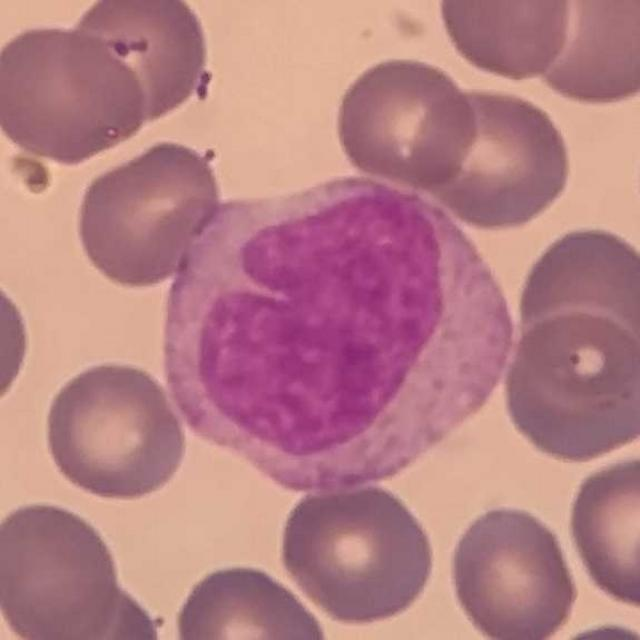Monocyte: (173, 165, 494, 485)
RBC: (408, 82, 578, 232), (274, 478, 441, 628), (70, 136, 228, 292), (39, 355, 190, 504), (498, 308, 640, 465), (0, 18, 149, 166), (510, 220, 640, 387), (330, 52, 481, 192), (58, 0, 214, 128), (443, 500, 582, 640), (0, 495, 125, 640), (169, 557, 335, 640), (521, 0, 639, 108), (563, 450, 640, 612), (432, 0, 578, 83), (12, 577, 169, 640), (0, 267, 35, 419), (535, 617, 639, 640)
